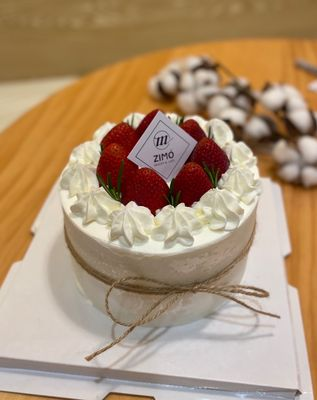burger: (0, 355, 302, 400)
